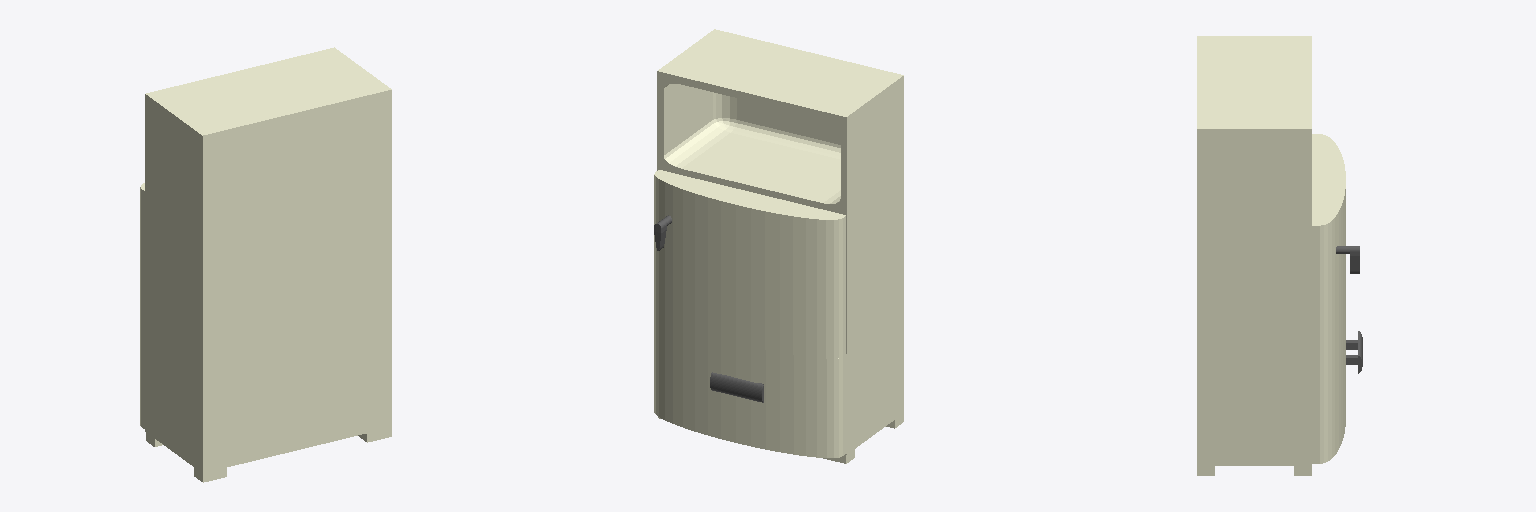
3 views of the same model, side by side, from view 1: azimuth 30°, elevation 25°; view 2: azimuth 150°, elevation 25°; view 3: azimuth 270°, elevation 25° (orthographic).
Parts seen in each view (by area): view 1: Refrigerdador.001_Cube.009, b_door_uv.001_Cube.008, Pata.001_Cube.014; view 2: Refrigerdador.001_Cube.009, b_door_uv.001_Cube.008, s_door_uv_2.001_Cube.003, Manija_tipo_b.001_Cube.002; view 3: Refrigerdador.001_Cube.009, b_door_uv.001_Cube.008, s_door_uv_2.001_Cube.003.
Part boxes in pixels (x1,y1,x2,y2): Refrigerdador.001_Cube.009: (145,47,391,472); b_door_uv.001_Cube.008: (140,183,144,329); Pata.001_Cube.014: (146,427,391,482); Refrigerdador.001_Cube.009: (657,29,903,454); b_door_uv.001_Cube.008: (654,170,845,358); s_door_uv_2.001_Cube.003: (654,314,846,457); Manija_tipo_b.001_Cube.002: (710,372,763,402); Refrigerdador.001_Cube.009: (1197,36,1311,465); b_door_uv.001_Cube.008: (1312,134,1345,364); s_door_uv_2.001_Cube.003: (1312,328,1345,463).
Size of the model in its own units: 3.71 by 6.5 by 2.81.
Materials: 2 (2 with a texture image).